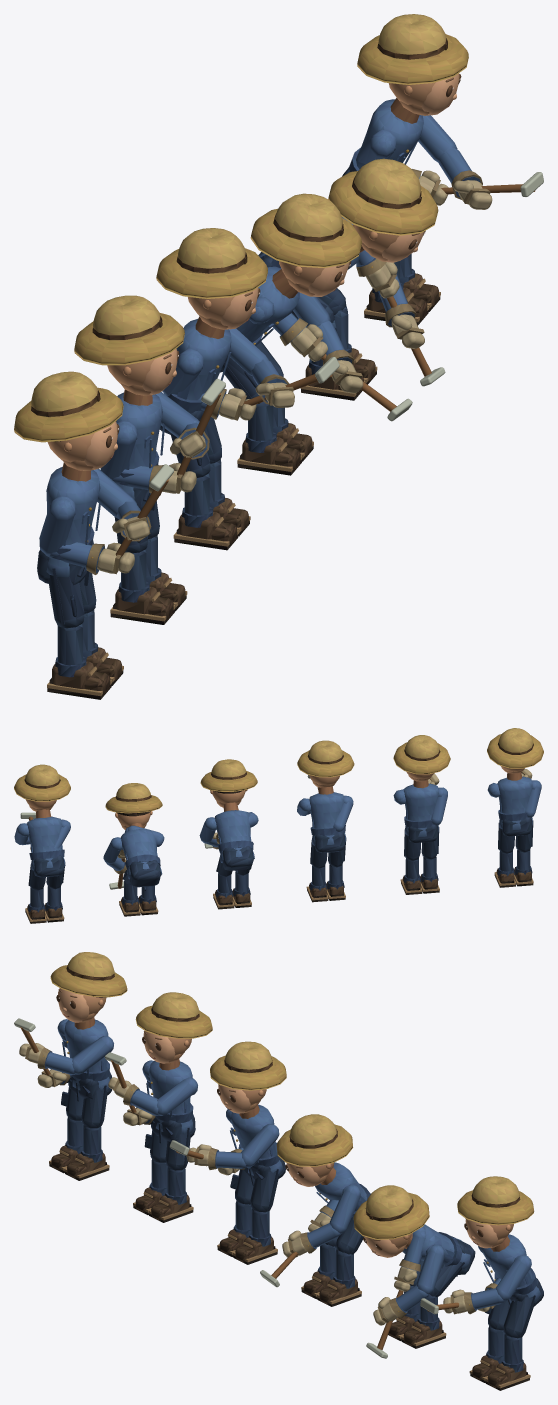
File: ba-hoe-front-before.glb
The picture shows the model from 3 angles, top to bottom: view 1: azimuth 30°, elevation 25°; view 2: azimuth 150°, elevation 25°; view 3: azimuth 270°, elevation 25°; orthographic projection. The views are drawn at different scales.
Parts seen in each view (by area): view 1: strawHat (×6), denimJacketTorso (×5), rightShin (×6), head (×6), leftShin (×6), leftHandMesh (×6), leftUpperArm (×5), rightHandMesh (×4), rightUpperArm (×4), rightThigh; view 2: strawHat (×6), denimJacketTorso (×6), leftShin (×6), rightShin (×6), trouserHips (×6), head (×4), leftThigh (×4), rightUpperArm (×3), leftUpperArm (×3), rightThigh (×3); view 3: strawHat (×6), denimJacketTorso (×6), leftShin (×6), head (×6), rightShin (×6), leftUpperArm (×6), leftThigh (×6), leftHandMesh (×3), trouserHips, rightThigh, rightHandMesh.
Boxes of the visible parts, x1,y1,x2,y2 form: strawHat (×6): [14, 14, 468, 442]; denimJacketTorso (×5): [46, 98, 423, 577]; rightShin (×6): [47, 261, 428, 699]; head (×6): [47, 73, 461, 470]; leftShin (×6): [82, 254, 440, 685]; leftHandMesh (×6): [112, 170, 492, 541]; leftUpperArm (×5): [94, 115, 457, 518]; rightHandMesh (×4): [86, 258, 399, 574]; rightUpperArm (×4): [39, 129, 396, 555]; rightThigh: [48, 568, 84, 628]; strawHat (×6): [14, 728, 543, 813]; denimJacketTorso (×6): [27, 772, 532, 879]; leftShin (×6): [25, 851, 516, 923]; rightShin (×6): [44, 849, 533, 922]; trouserHips (×6): [33, 817, 532, 890]; head (×4): [25, 775, 339, 829]; leftThigh (×4): [28, 823, 514, 890]; rightUpperArm (×3): [333, 780, 541, 831]; leftUpperArm (×3): [14, 817, 216, 863]; rightThigh (×3): [328, 820, 533, 867]; strawHat (×6): [50, 952, 534, 1239]; denimJacketTorso (×6): [62, 1017, 540, 1302]; leftShin (×6): [64, 1125, 530, 1390]; head (×6): [56, 988, 513, 1257]; rightShin (×6): [49, 1117, 504, 1382]; leftUpperArm (×6): [72, 1036, 531, 1301]; leftThigh (×6): [81, 1085, 535, 1338]; leftHandMesh (×3): [282, 1230, 475, 1325]; trouserHips: [149, 1114, 195, 1143]; rightThigh: [230, 1169, 253, 1204]; rightHandMesh: [394, 1259, 420, 1291].
Size of what is drawn, in the model's own units: 6.41 by 2.41 by 5.5.
